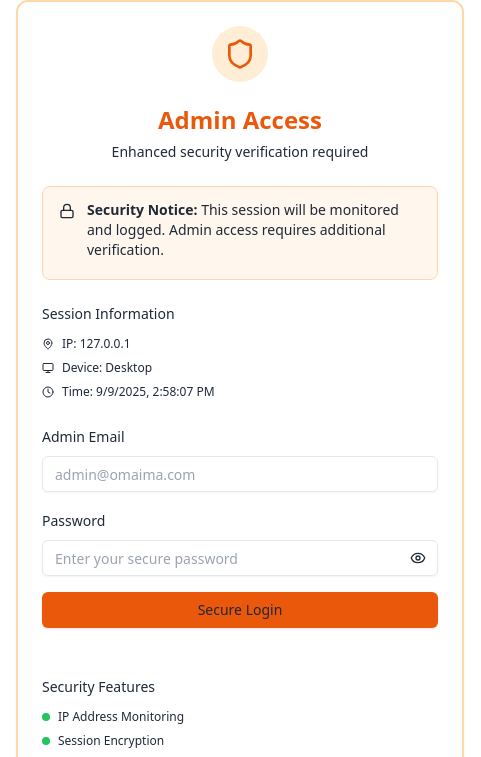
Scenario: AdminLoginForm Component › should handle successful login without MFA
Type "admin@example.com" into the field labelled "Admin Email" at (240, 474), box top-left (42, 456), bottom-right (438, 492)
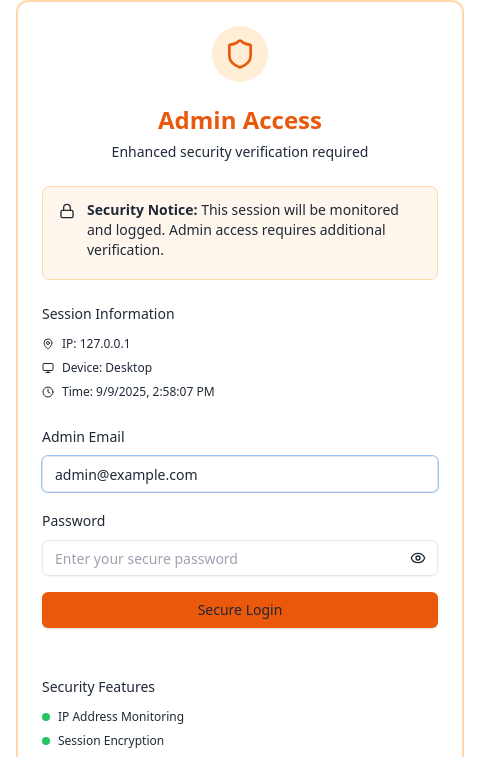
Type "password123" into the password field labelled "Password" at (240, 558), box top-left (42, 540), bottom-right (438, 576)
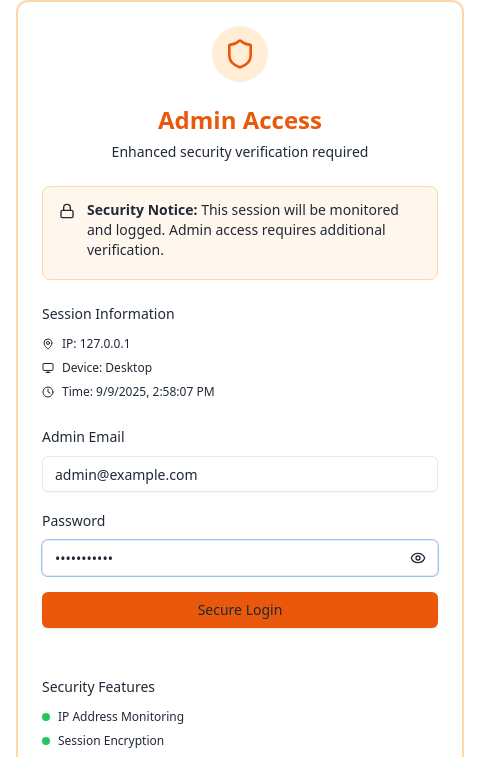
Click the button "Secure Login" at (240, 610), box top-left (42, 592), bottom-right (438, 628)
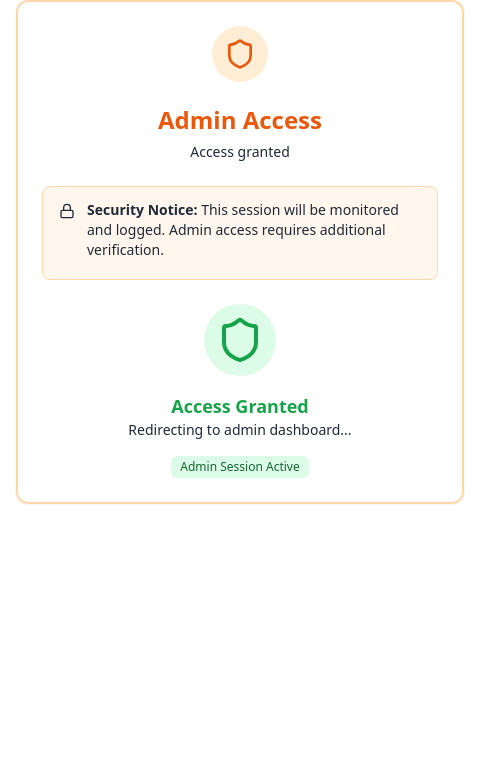
Expected: the heading "Access Granted" is shown, top-left (171, 394), bottom-right (309, 418)
